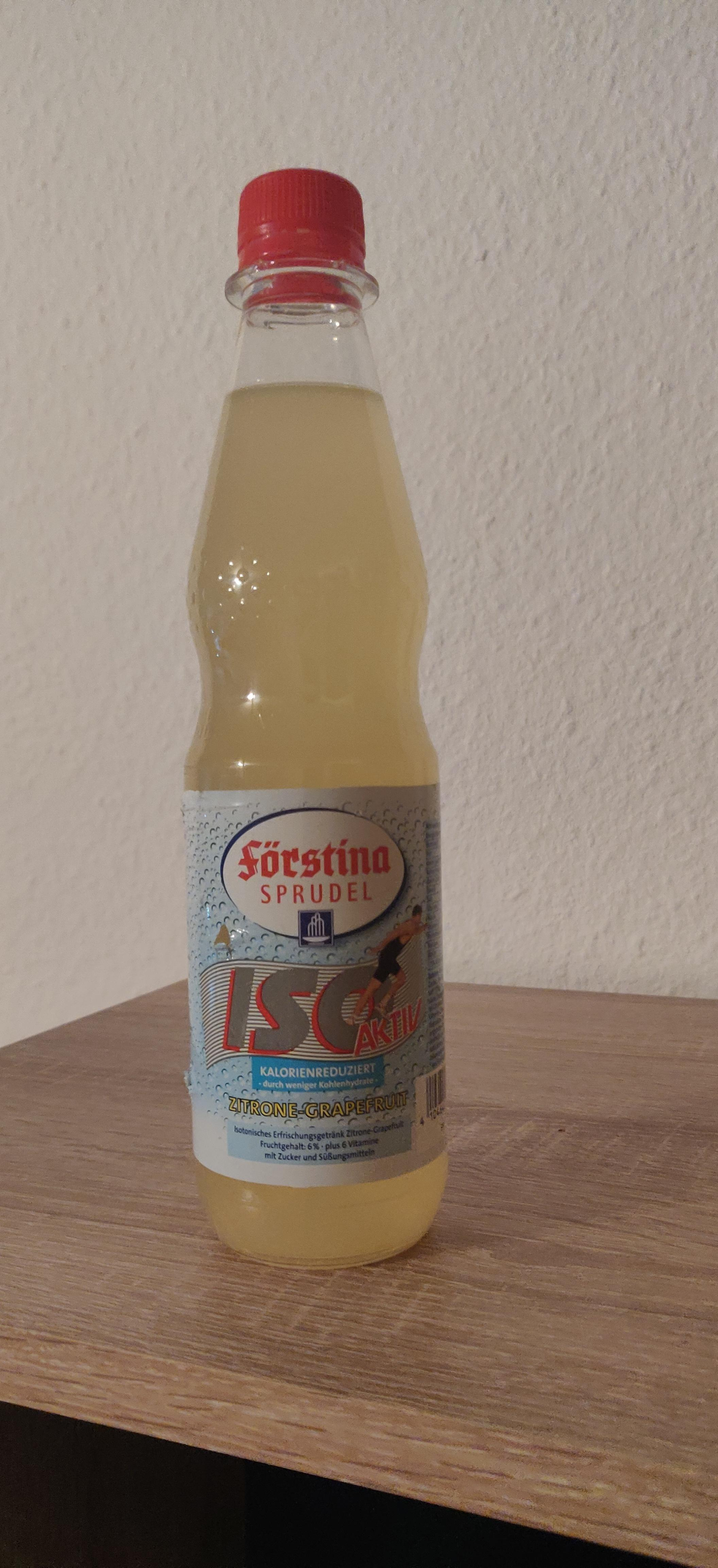bottle-plastic: (181, 164, 445, 1268)
